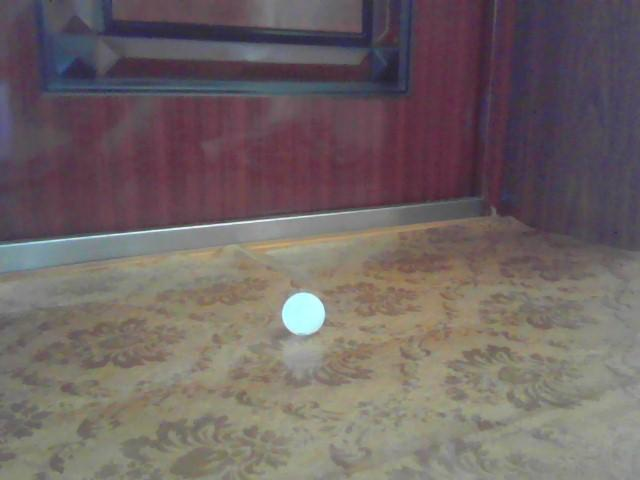ball: (283, 293, 325, 334)
